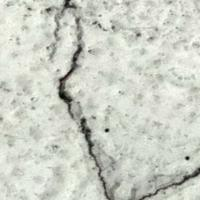crack: (42, 0, 199, 198)
